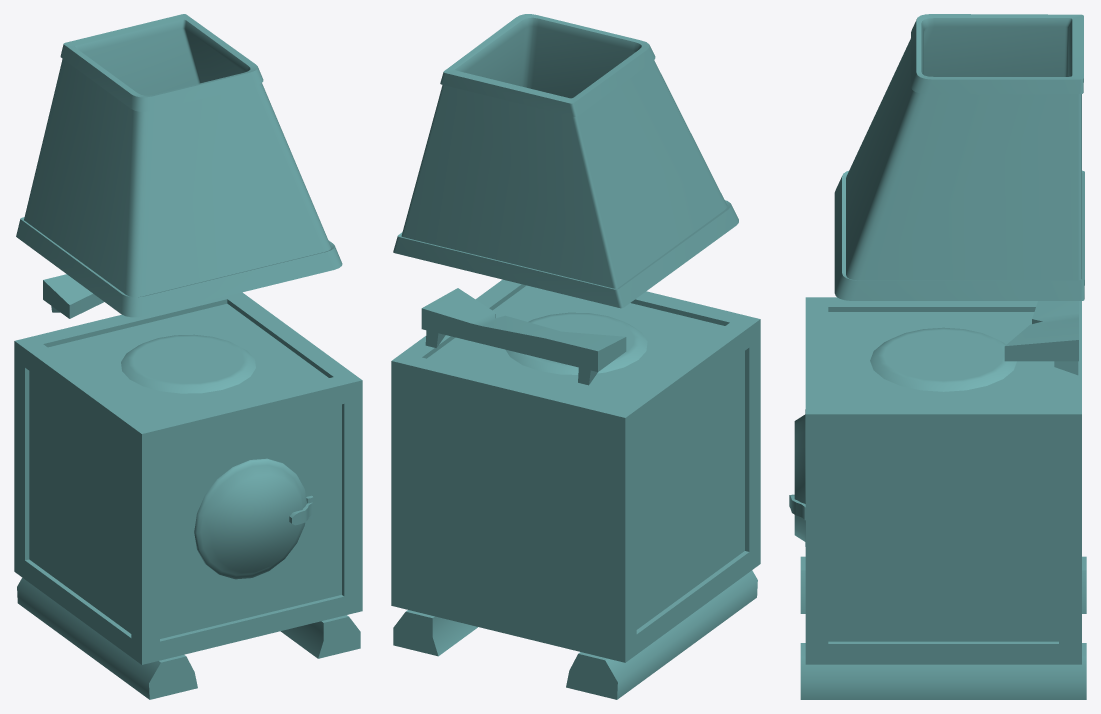
Rendered from Oven_1_LP.fbx.
3 renders of one model, left to right at view 1: azimuth 30°, elevation 25°; view 2: azimuth 150°, elevation 25°; view 3: azimuth 270°, elevation 25°, orthographic. The views are drawn at different scales.
Parts seen in each view (by area): view 1: Oven_2_lp, Oven_1_lp, Oven_4_lp, Oven_3_lp, Box010, Box011, Box009; view 2: Oven_2_lp, Oven_1_lp, Box009, Box010, Oven_3_lp, Box011; view 3: Oven_2_lp, Oven_1_lp, Box011, Oven_3_lp, Box009, Oven_4_lp, Box010.
Boxes of the visible parts, left/top/right/bottom form: Oven_2_lp: left=14, top=292, right=362, bottom=664; Oven_1_lp: left=16, top=14, right=342, bottom=317; Oven_4_lp: left=194, top=458, right=307, bottom=579; Oven_3_lp: left=121, top=334, right=255, bottom=393; Box010: left=17, top=578, right=197, bottom=699; Box011: left=280, top=615, right=360, bottom=658; Box009: left=43, top=274, right=103, bottom=318; Oven_2_lp: left=391, top=279, right=760, bottom=662; Oven_1_lp: left=393, top=14, right=738, bottom=308; Box009: left=421, top=288, right=626, bottom=371; Box010: left=566, top=570, right=757, bottom=699; Oven_3_lp: left=506, top=312, right=647, bottom=374; Box011: left=393, top=610, right=477, bottom=656; Oven_2_lp: left=805, top=297, right=1081, bottom=664; Oven_1_lp: left=834, top=14, right=1084, bottom=300; Box011: left=800, top=643, right=1086, bottom=699; Oven_3_lp: left=870, top=327, right=1016, bottom=391; Box009: left=1004, top=301, right=1078, bottom=361; Oven_4_lp: left=794, top=409, right=805, bottom=546; Box010: left=800, top=556, right=1086, bottom=613.
Bounding box in the file's own units: 100 × 239 × 108.
